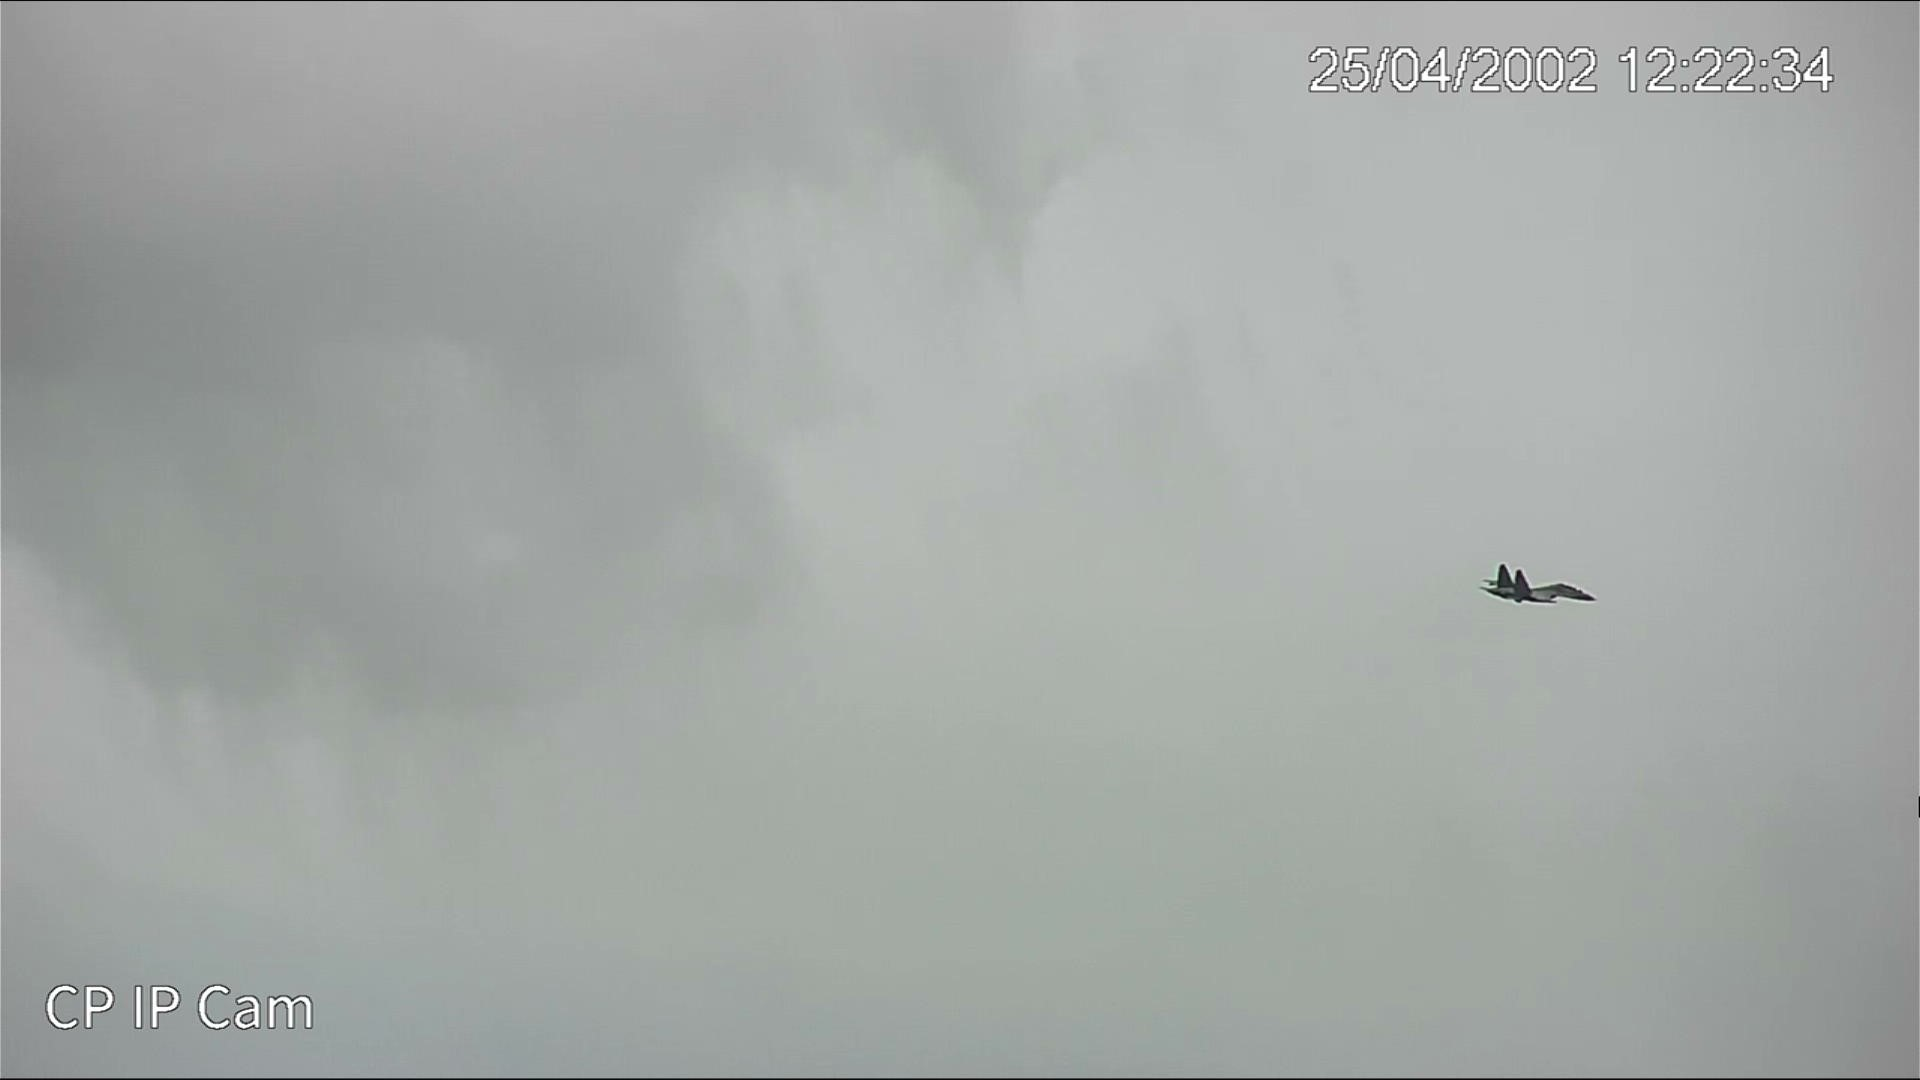SU_30: (1484, 562, 1594, 615)
